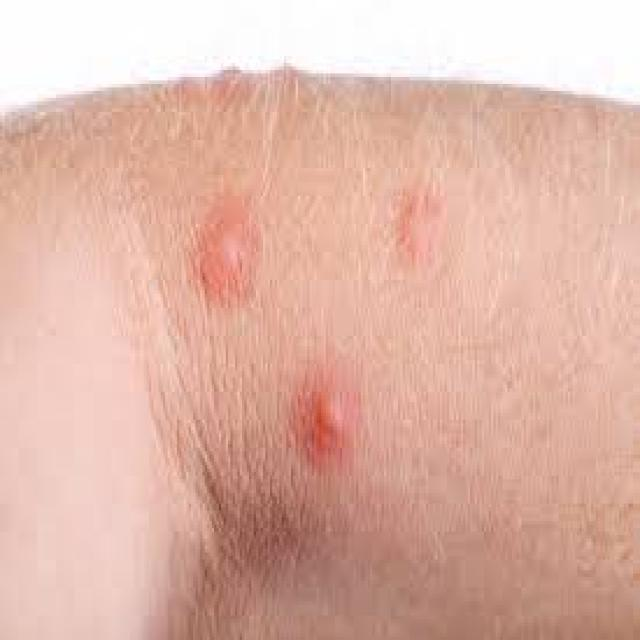kan emici bocekler: (197, 210, 264, 319), (307, 379, 368, 456), (389, 198, 438, 266)
